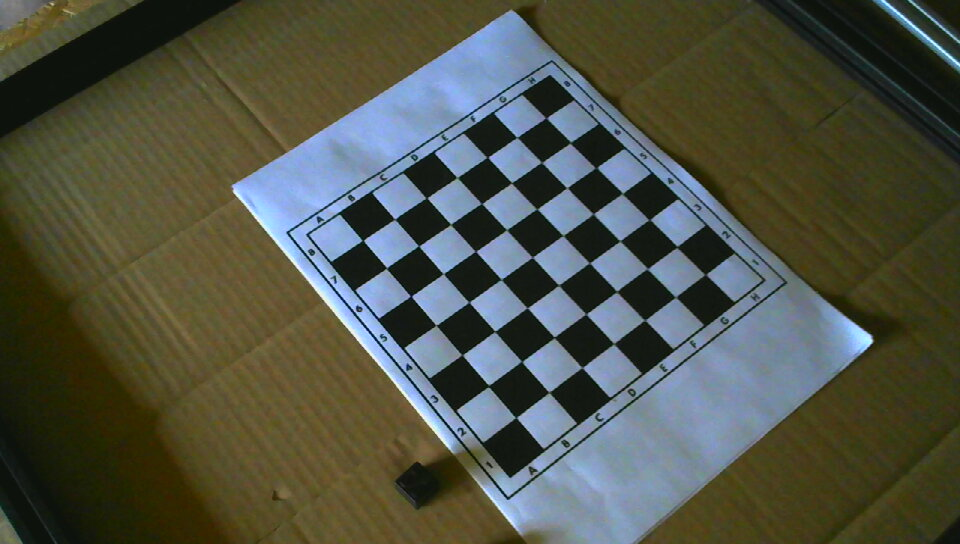bp: (396, 462, 440, 509)
